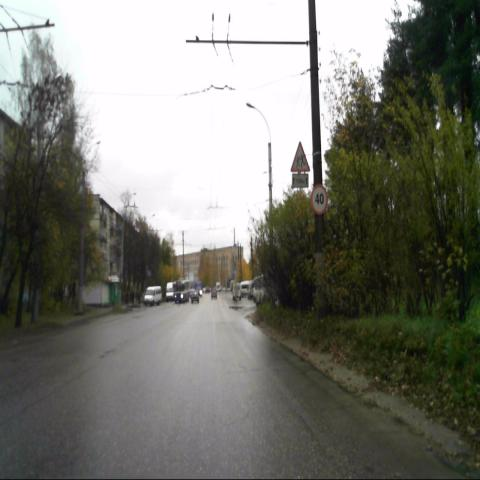8_2_1: (291, 174, 310, 188)
